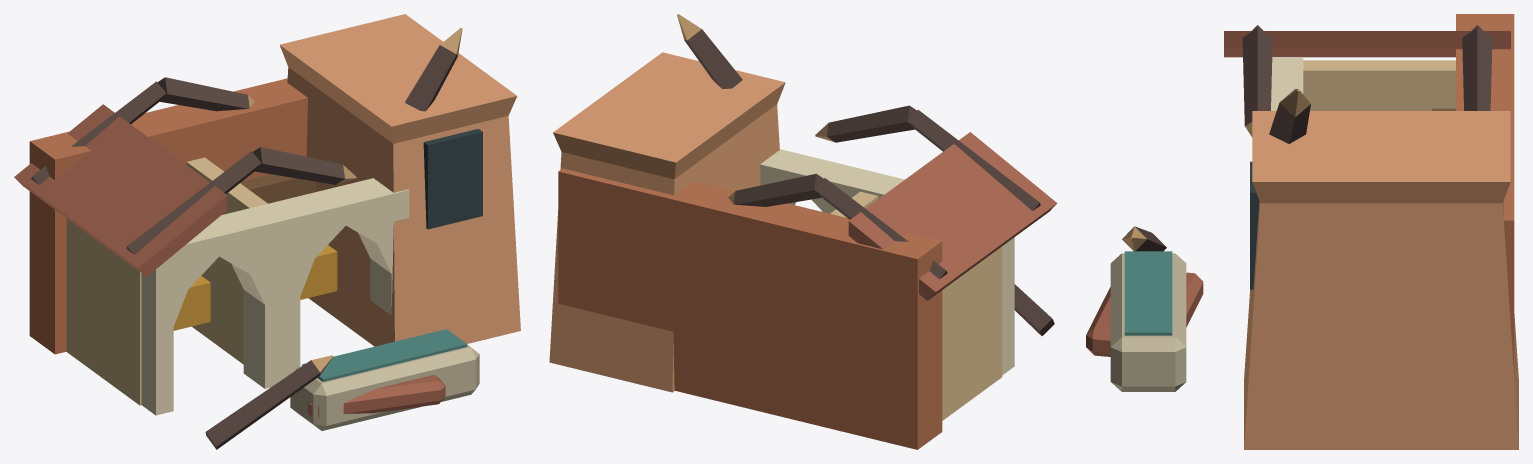
File: ns-pillaged-pasture.glb
3 views of the same model, side by side, from view 1: azimuth 30°, elevation 25°; view 2: azimuth 150°, elevation 25°; view 3: azimuth 270°, elevation 25° (orthographic). The views are drawn at different scales.
Visible parts, largest first — view 1: Cube; view 2: Cube; view 3: Cube.
Part boxes in pixels (<box>): Cube: <box>14,14,520,449</box>; Cube: <box>549,14,1057,449</box>; Cube: <box>1086,14,1518,449</box>.
Bounding box in the file's own units: 0.4477 × 0.3289 × 0.3717.
